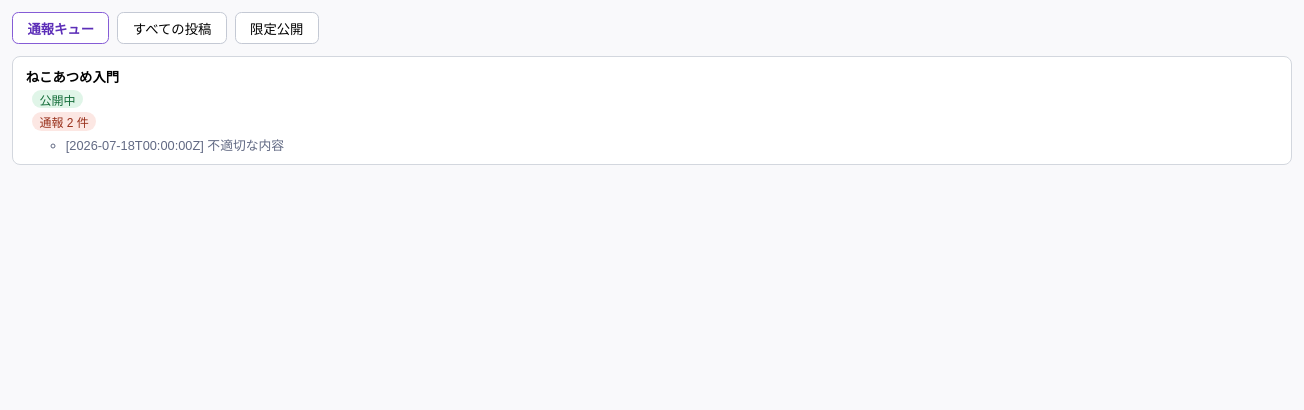
Test: SharedAssignmentsView (issue #1083) › 推薦は二段階確認を通ってから API を呼ぶ (#1110)
Click the button with test id "shared-admin-queue-item-s1": (72, 77) [12,56,1292,165]
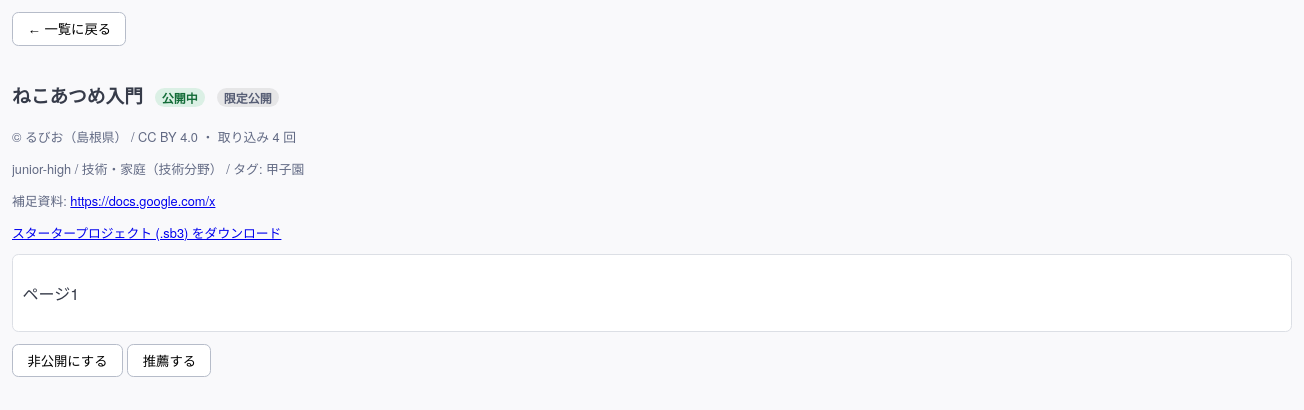
Expected: the element with test id "shared-admin-detail" is shown
Click the button with test id "shared-admin-recommend": (169, 360) [127,344,211,377]
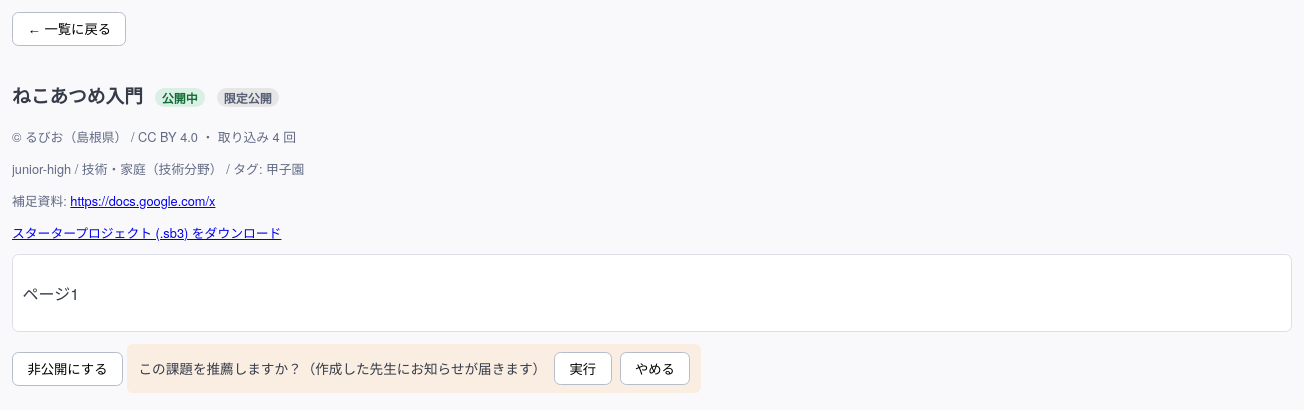
Expected: the element with test id "shared-admin-recommend-confirm" shows "お知らせが届きます", [138,358,546,378]
Click the button with test id "shared-admin-recommend-confirm-yes": (583, 368) [554,352,612,385]
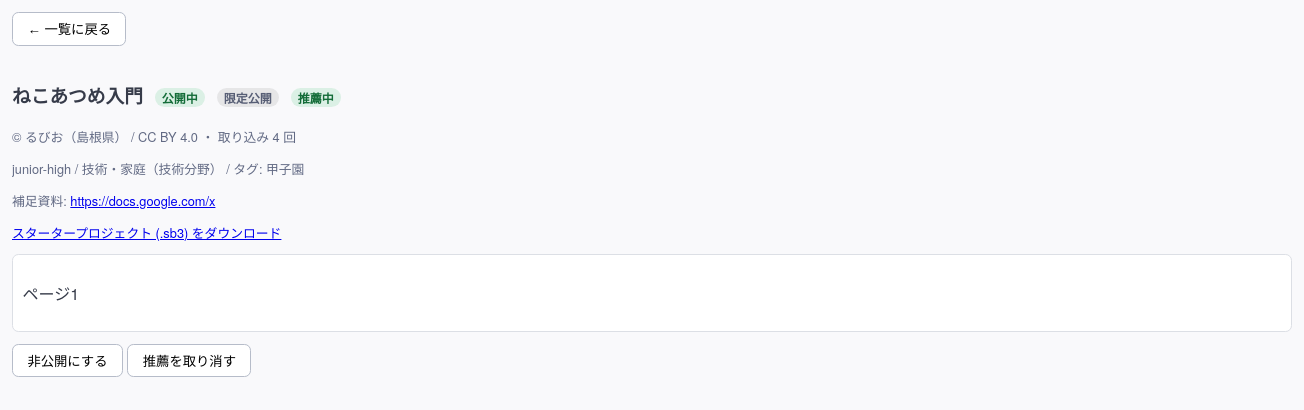
Expected: the button with test id "shared-admin-recommend" reads "推薦を取り消す", [127,344,251,377]
